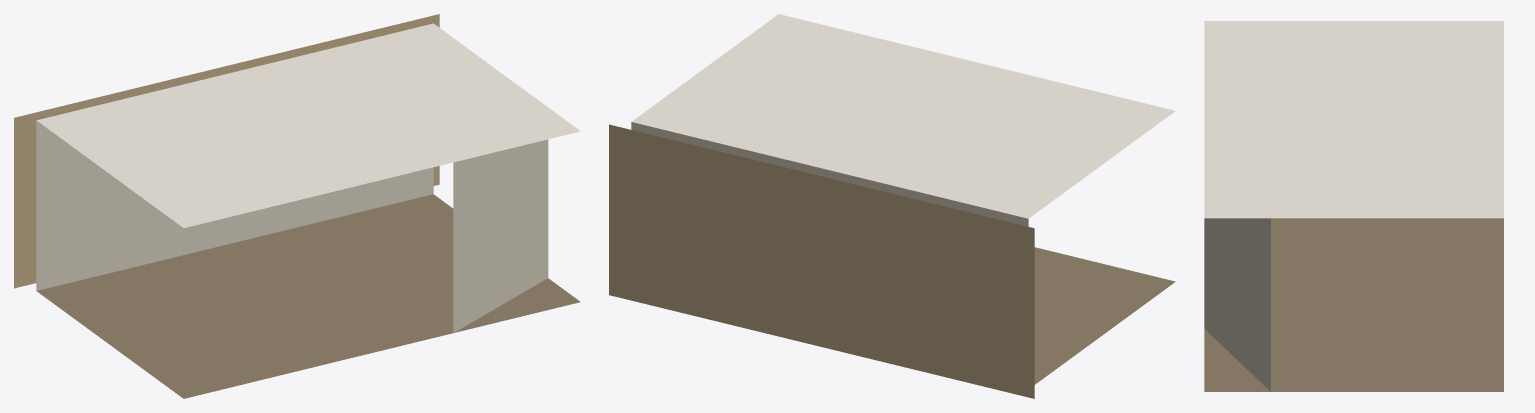
File: fixture-upper.glb
3 renders of one model, left to right at view 1: azimuth 30°, elevation 25°; view 2: azimuth 150°, elevation 25°; view 3: azimuth 270°, elevation 25°, orthographic.
Parts seen in each view (by area): view 1: s-r-u-a-ceiling, s-r-u-a-floor, s-e-f-upper-ext--r-u-a, s-w-u-diag--r-u-a, s-e-f-upper-ext-out; view 2: s-e-f-upper-ext-out, s-r-u-a-ceiling, s-r-u-a-floor, s-e-f-upper-ext--r-u-a; view 3: s-r-u-a-ceiling, s-r-u-a-floor, s-w-u-diag--r-u-a.
Part boxes in pixels (x1=…): s-r-u-a-ceiling: x1=37, y1=23, x2=580, y2=227; s-r-u-a-floor: x1=36, y1=194, x2=580, y2=398; s-e-f-upper-ext--r-u-a: x1=36, y1=120, x2=433, y2=290; s-w-u-diag--r-u-a: x1=453, y1=139, x2=548, y2=332; s-e-f-upper-ext-out: x1=14, y1=14, x2=439, y2=288; s-e-f-upper-ext-out: x1=609, y1=124, x2=1034, y2=398; s-r-u-a-ceiling: x1=631, y1=14, x2=1175, y2=218; s-r-u-a-floor: x1=1034, y1=247, x2=1175, y2=384; s-e-f-upper-ext--r-u-a: x1=631, y1=122, x2=1028, y2=226; s-r-u-a-ceiling: x1=1204, y1=21, x2=1503, y2=218; s-r-u-a-floor: x1=1204, y1=218, x2=1503, y2=391; s-w-u-diag--r-u-a: x1=1204, y1=218, x2=1270, y2=391.
Size of the model in its own units: 6 by 2.3 by 3.8.
